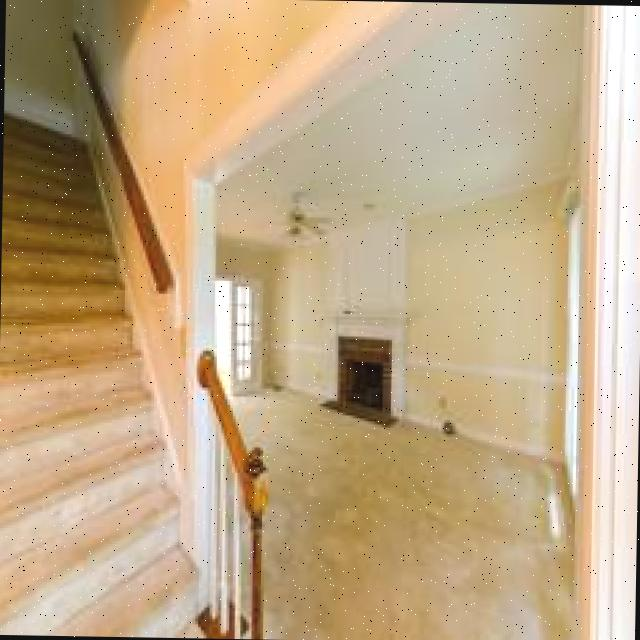stairs: (0, 42, 278, 613)
